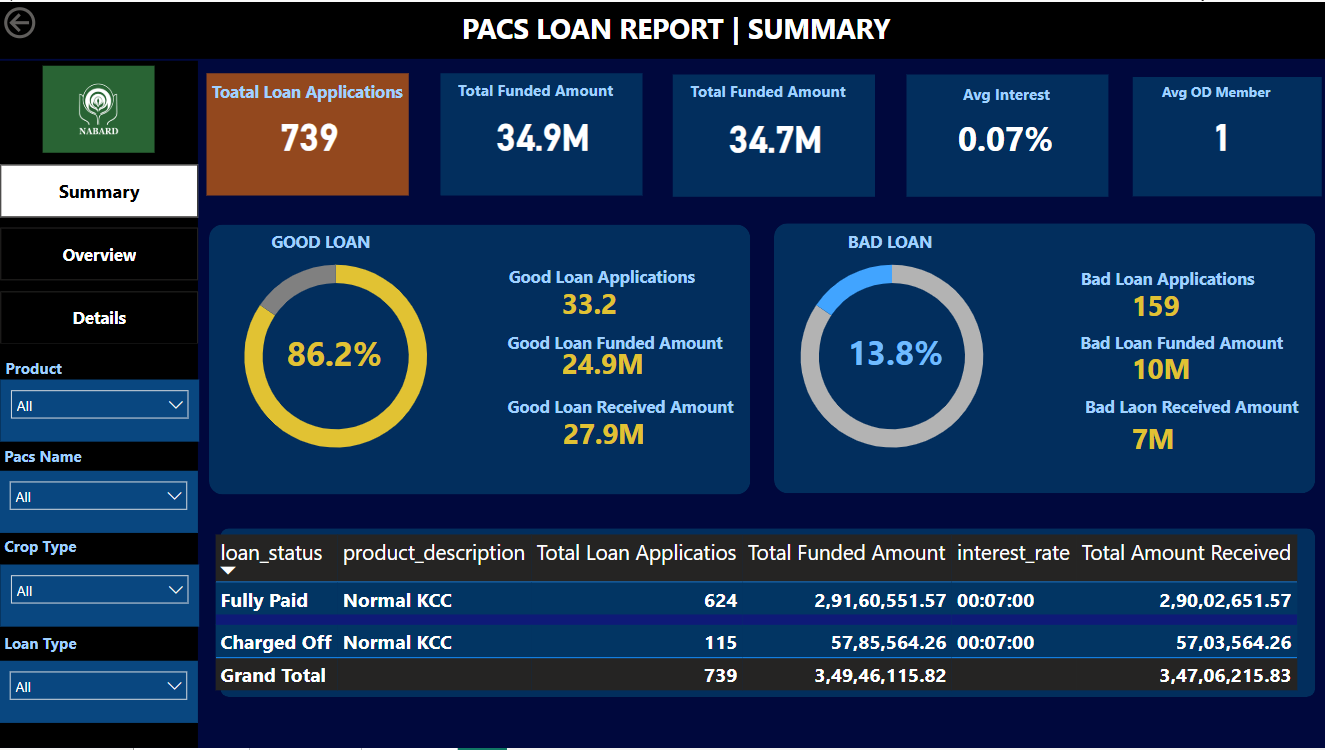

The page's visual inventory and layout, read from the dashboard file:
{"tool":"powerbi","page":{"name":"Summary","canvas":[1280,720],"ordinal":0},"visuals":[{"type":"shape","box":[0,57.1,192.2,663.2],"z":0},{"type":"shape","box":[748,213.5,522.4,260.6],"z":1000},{"type":"shape","box":[0,0,1281.7,54.9],"z":2000},{"type":"textbox","box":[441.9,2.7,477.5,49.4],"z":3000},{"type":"shape","box":[200.3,68.6,195.4,118],"z":3000,"group":"g1"},{"type":"shape","box":[425.4,68.6,195.4,118],"z":3000,"group":"g2"},{"type":"shape","box":[650.4,70,195.4,118],"z":3000,"group":"g3"},{"type":"shape","box":[875.5,70,194.9,118],"z":3000,"group":"g4"},{"type":"shape","box":[1093.7,71.9,182.5,115.3],"z":3000,"group":"g5"},{"type":"actionButton","box":[0,0,100,40],"z":4000},{"type":"card","fields":{"Values":["agri_loan_data.Total loan Applicatios"]},"box":[225.3,97.2,148,60.5],"z":4000,"group":"g1"},{"type":"card","fields":{"Values":["agri_loan_data.Total Funded Amount"]},"box":[450.4,97.2,148,60.5],"z":4000,"group":"g2"},{"type":"card","fields":{"Values":["agri_loan_data.MTD Loan Applications"]},"box":[1105.2,97.7,148,60.5],"z":4000,"group":"g5"},{"type":"card","fields":{"Values":["agri_loan_data.Total Amount Received"]},"box":[675.4,98.6,148,60.5],"z":4000,"group":"g3"},{"type":"group","id":"g1","title":"Group 1","box":[200.3,68.6,225,118],"z":5000},{"type":"group","id":"g2","title":"Group 1","box":[425.4,68.6,225,118],"z":6000},{"type":"textbox","box":[200.7,69.7,224.7,37.1],"z":6000,"group":"g1"},{"type":"textbox","box":[425.8,69.7,224.7,37.1],"z":6000,"group":"g2"},{"type":"textbox","box":[650.8,71.1,224.7,37.1],"z":6000,"group":"g3"},{"type":"textbox","box":[1117,72.1,156.4,31.6],"z":6000,"group":"g5"},{"type":"textbox","box":[925.5,73.3,112.5,31.6],"z":6000,"group":"g4"},{"type":"textbox","box":[0,603.2,113.4,31.4],"z":7000},{"type":"textbox","box":[0,510.3,112.2,31.4],"z":8000},{"type":"textbox","box":[0,423.5,112.2,38.6],"z":9000},{"type":"group","id":"g3","title":"Group 1","box":[650.4,70,225,118],"z":10000},{"type":"shape","box":[202.7,214.7,522.4,260.6],"z":11000},{"type":"textbox","box":[761.3,214.7,225.6,37.4],"z":12000},{"type":"textbox","box":[213.5,214.7,224.4,37.4],"z":13000},{"type":"group","id":"g4","title":"Group 1","box":[875.5,70,194.9,118],"z":14000},{"type":"textbox","box":[272.7,312.5,123.1,62.7],"z":15000},{"type":"group","id":"g5","title":"Group 1","box":[1093.7,71.9,182.5,115.3],"z":16000},{"type":"donutChart","fields":{"Category":["agri_loan_data.Good vs Bad Loan"],"Y":["agri_loan_data.Total Loan Applicatios"]},"box":[200.3,226.8,249.7,230.4],"z":17000},{"type":"shape","box":[213.5,507.9,1056.8,162.9],"z":18000},{"type":"tableEx","fields":{"Values":["agri_loan_data.loan_status","agri_loan_data.product_description","agri_loan_data.Total Loan Applicatios","agri_loan_data.Total Funded Amount","agri_loan_data.interest_rate","agri_loan_data.Total Amount Received"]},"box":[202.7,509.1,1072.5,162.9],"z":19000},{"type":"donutChart","fields":{"Category":["agri_loan_data.Good vs Bad Loan"],"Y":["agri_loan_data.Total Loan Applicatios"]},"box":[737.1,226.8,249.7,230.4],"z":20000},{"type":"textbox","box":[998.9,374,271.4,37.4],"z":21000},{"type":"textbox","box":[972.4,312.5,298,37.4],"z":22000},{"type":"textbox","box":[990.5,250.9,257,37.4],"z":23000},{"type":"textbox","box":[441.6,374,283.5,47.1],"z":24000},{"type":"textbox","box":[441.6,312.5,270.2,37.4],"z":25000},{"type":"textbox","box":[442.8,248.5,264.2,37.4],"z":26000},{"type":"textbox","box":[814.3,311.3,123.1,62.7],"z":27000},{"type":"textbox","box":[539.3,393.3,124.3,63.9],"z":28000},{"type":"textbox","box":[538.1,325.7,124.3,62.7],"z":29000},{"type":"textbox","box":[538.1,267.8,123.1,62.7],"z":30000},{"type":"textbox","box":[1088.2,398.1,123.1,63.9],"z":31000},{"type":"textbox","box":[1088.2,330.6,124.3,62.7],"z":32000},{"type":"textbox","box":[1088.2,269,123.1,61.5],"z":33000},{"type":"textbox","box":[920.5,105,123.1,62.7],"z":34000},{"type":"slicer","fields":{"Values":["agri_loan_data.member_address"]},"box":[0,452.4,191.8,60.3],"z":35000},{"type":"slicer","fields":{"Values":["agri_loan_data.crop_description"]},"box":[1.2,542.9,191.8,60.3],"z":36000},{"type":"slicer","fields":{"Values":["agri_loan_data.loan_type"]},"box":[0,635.8,191.8,60.3],"z":37000},{"type":"slicer","fields":{"Values":["agri_loan_data.product_description"]},"box":[1.2,364.3,191.8,60.3],"z":38000},{"type":"textbox","box":[1.2,337.8,112.2,38.6],"z":39000},{"type":"pageNavigator","box":[1.2,156.8,191.8,174.9],"z":40000},{"type":"image","box":[22.9,56.7,146,94.1],"z":40001}]}

Visuals, with their boxes in screenshot pixels (x1, y1, x2, y2), scaled from the page's 1280x720 canvas onto the 1325x750 screenshot:
shape: x1=0, y1=59, x2=199, y2=749
shape: x1=774, y1=222, x2=1315, y2=494
shape: x1=0, y1=0, x2=1324, y2=57
textbox: x1=457, y1=3, x2=952, y2=54
shape: x1=207, y1=71, x2=410, y2=194
shape: x1=440, y1=71, x2=643, y2=194
shape: x1=673, y1=73, x2=876, y2=196
shape: x1=906, y1=73, x2=1108, y2=196
shape: x1=1132, y1=75, x2=1321, y2=195
actionButton: x1=0, y1=0, x2=104, y2=42
card - agri_loan_data.Total loan Applicatios: x1=233, y1=101, x2=386, y2=164
card - agri_loan_data.Total Funded Amount: x1=466, y1=101, x2=619, y2=164
card - agri_loan_data.MTD Loan Applications: x1=1144, y1=102, x2=1297, y2=165
card - agri_loan_data.Total Amount Received: x1=699, y1=103, x2=852, y2=166
"Group 1" group: x1=207, y1=71, x2=440, y2=194
"Group 1" group: x1=440, y1=71, x2=673, y2=194
textbox: x1=208, y1=73, x2=440, y2=111
textbox: x1=441, y1=73, x2=673, y2=111
textbox: x1=674, y1=74, x2=906, y2=113
textbox: x1=1156, y1=75, x2=1318, y2=108
textbox: x1=958, y1=76, x2=1074, y2=109
textbox: x1=0, y1=628, x2=117, y2=661
textbox: x1=0, y1=532, x2=116, y2=564
textbox: x1=0, y1=441, x2=116, y2=481
"Group 1" group: x1=673, y1=73, x2=906, y2=196
shape: x1=210, y1=224, x2=751, y2=495
textbox: x1=788, y1=224, x2=1022, y2=263
textbox: x1=221, y1=224, x2=453, y2=263
"Group 1" group: x1=906, y1=73, x2=1108, y2=196
textbox: x1=282, y1=326, x2=410, y2=391
"Group 1" group: x1=1132, y1=75, x2=1321, y2=195
donutChart - agri_loan_data.Good vs Bad Loan x agri_loan_data.Total Loan Applicatios: x1=207, y1=236, x2=466, y2=476
shape: x1=221, y1=529, x2=1315, y2=699
tableEx - agri_loan_data.loan_status x agri_loan_data.product_description: x1=210, y1=530, x2=1320, y2=700
donutChart - agri_loan_data.Good vs Bad Loan x agri_loan_data.Total Loan Applicatios: x1=763, y1=236, x2=1021, y2=476
textbox: x1=1034, y1=390, x2=1315, y2=429
textbox: x1=1007, y1=326, x2=1315, y2=364
textbox: x1=1025, y1=261, x2=1291, y2=300
textbox: x1=457, y1=390, x2=751, y2=439
textbox: x1=457, y1=326, x2=737, y2=364
textbox: x1=458, y1=259, x2=732, y2=298
textbox: x1=843, y1=324, x2=970, y2=390
textbox: x1=558, y1=410, x2=687, y2=476
textbox: x1=557, y1=339, x2=686, y2=405
textbox: x1=557, y1=279, x2=684, y2=344
textbox: x1=1126, y1=415, x2=1254, y2=481
textbox: x1=1126, y1=344, x2=1255, y2=410
textbox: x1=1126, y1=280, x2=1254, y2=344
textbox: x1=953, y1=109, x2=1080, y2=175
slicer - agri_loan_data.member_address: x1=0, y1=471, x2=199, y2=534
slicer - agri_loan_data.crop_description: x1=1, y1=566, x2=200, y2=628
slicer - agri_loan_data.loan_type: x1=0, y1=662, x2=199, y2=725
slicer - agri_loan_data.product_description: x1=1, y1=379, x2=200, y2=442
textbox: x1=1, y1=352, x2=117, y2=392
pageNavigator: x1=1, y1=163, x2=200, y2=346
image: x1=24, y1=59, x2=175, y2=157
